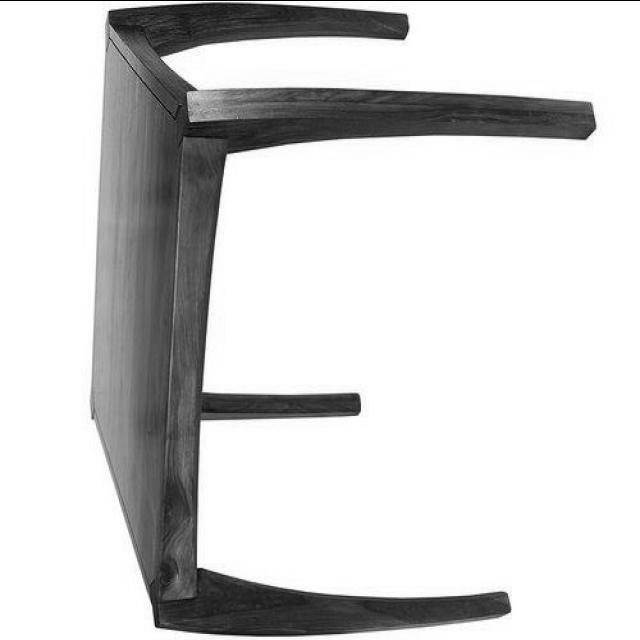table: (87, 1, 594, 635)
